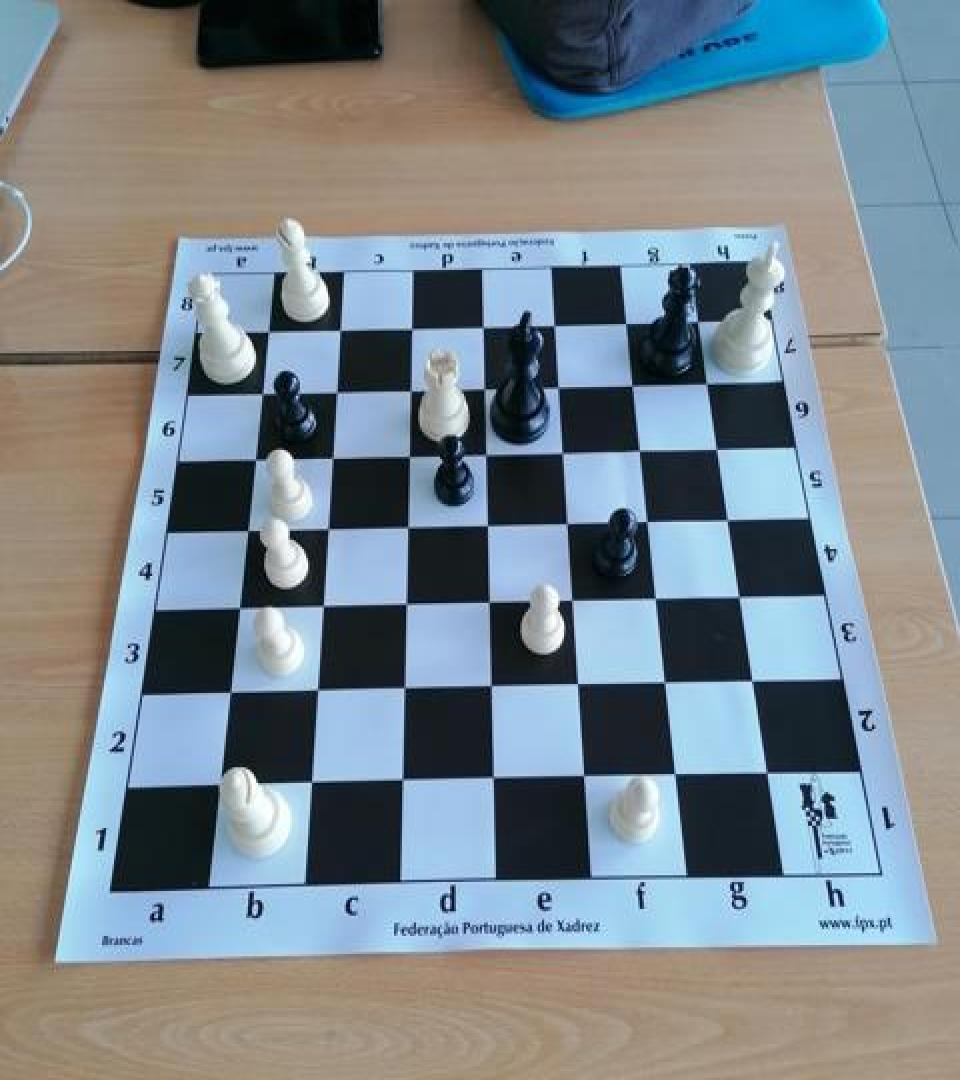xcorner: (561, 581, 593, 618), (645, 579, 677, 616), (742, 661, 774, 698), (251, 310, 283, 346), (245, 372, 277, 408), (237, 439, 269, 475), (229, 511, 261, 547), (221, 590, 253, 626), (211, 674, 243, 710), (201, 767, 233, 803), (324, 310, 356, 346), (320, 370, 352, 406), (316, 438, 348, 474), (311, 508, 343, 544), (306, 587, 338, 623), (300, 672, 332, 708), (294, 765, 326, 801), (397, 307, 429, 343), (396, 369, 428, 405), (394, 436, 426, 472), (393, 508, 425, 544), (391, 585, 423, 621), (389, 670, 421, 706), (387, 763, 419, 799), (470, 306, 502, 342), (471, 368, 503, 404), (473, 434, 505, 470), (474, 506, 506, 542), (476, 584, 508, 620), (478, 668, 510, 704), (480, 760, 512, 796), (542, 305, 574, 341), (546, 367, 578, 403), (551, 433, 583, 469), (555, 504, 587, 540), (566, 666, 598, 702), (572, 758, 604, 794), (614, 304, 646, 340), (621, 366, 653, 402), (628, 431, 660, 467), (636, 503, 668, 539), (654, 664, 686, 700), (664, 755, 696, 791), (686, 302, 718, 338), (696, 364, 728, 400), (706, 430, 738, 466), (717, 500, 749, 536), (729, 578, 761, 614), (756, 752, 788, 788)
